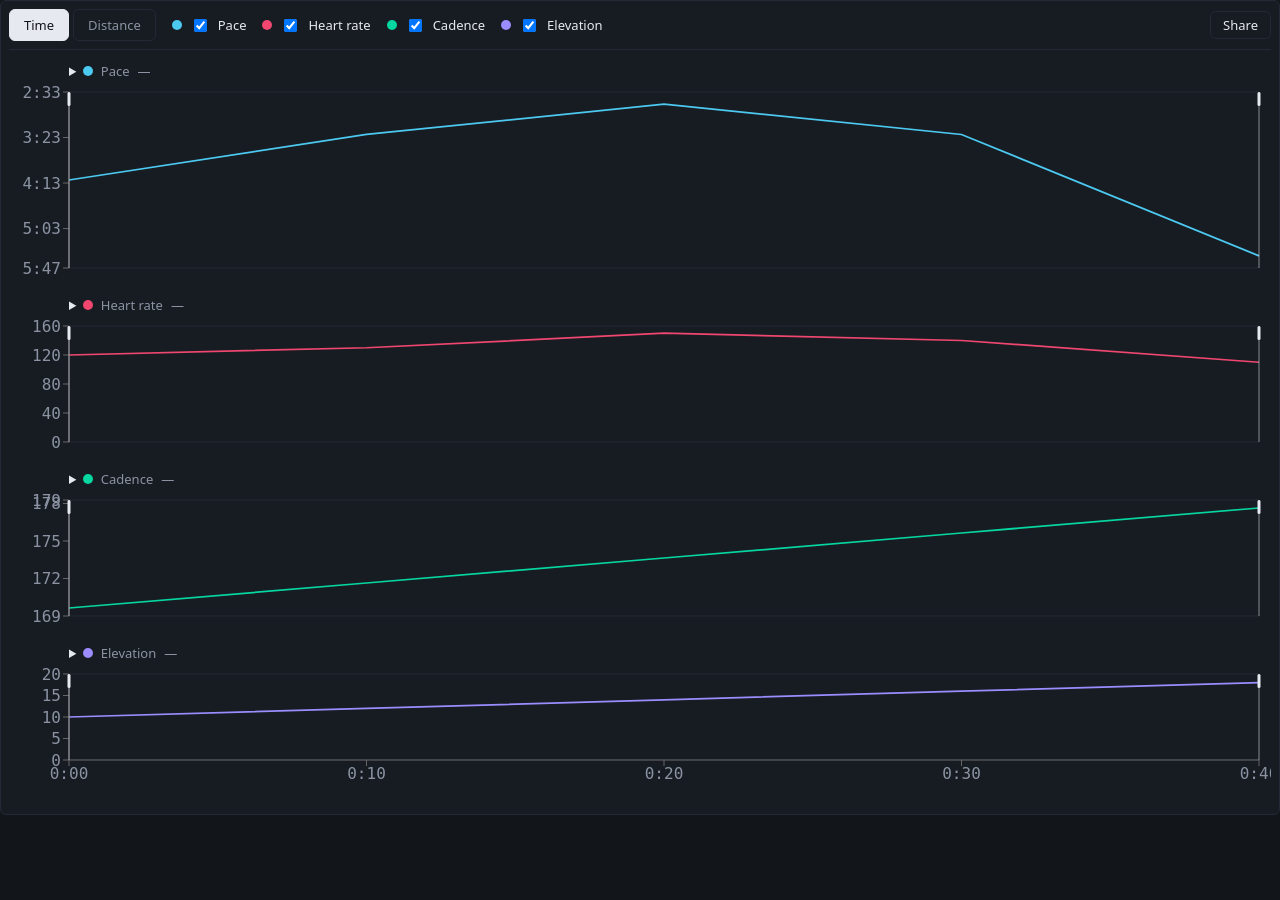
it: ChartToolbar › unchecking a metric toggle removes its panel from the chart stack
Expected: the element with class "metric-panel" showing "Pace" is shown, [9,62,1271,284]
Expected: the number of elements with class "metric-panel" is 4, [9,62,1271,284]; [9,296,1271,458]; [9,470,1271,632]; [9,644,1271,806]
Click the checkbox labelled "Cadence" at coordinates (415, 25), box [409,18,422,32]
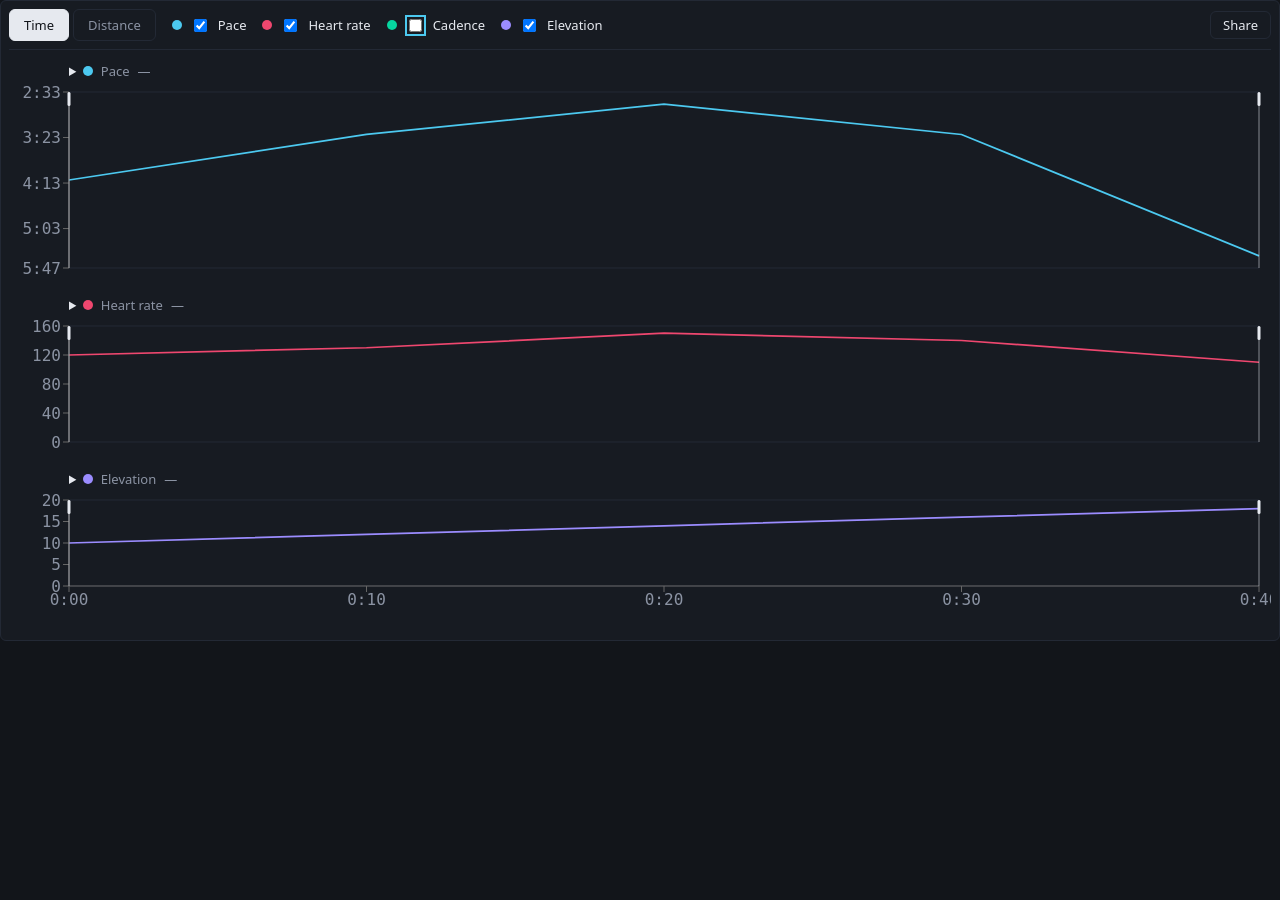
Now the number of elements with class "metric-panel" is 3, box [9,62,1271,284]; [9,296,1271,458]; [9,470,1271,632]
